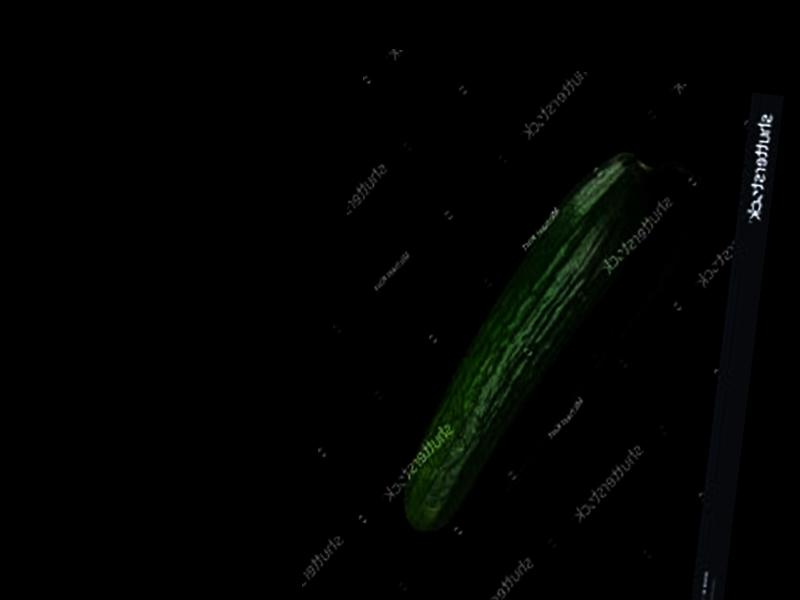Cucumber: (397, 130, 663, 558)
